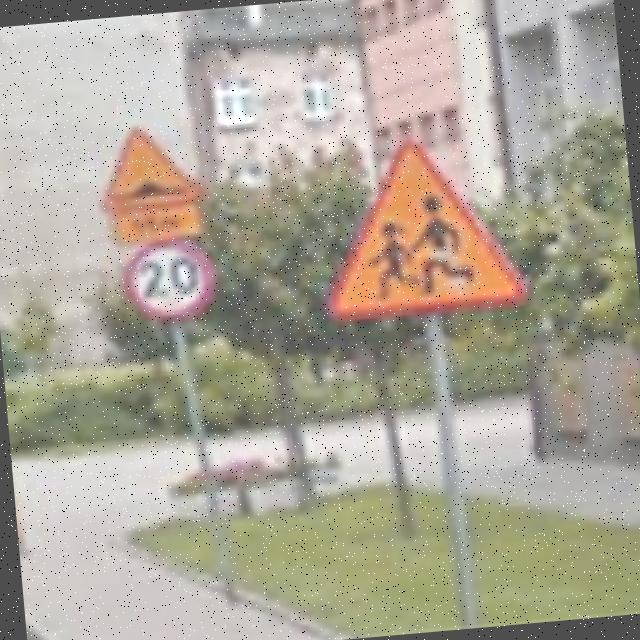Dzieci: (311, 130, 527, 322)
